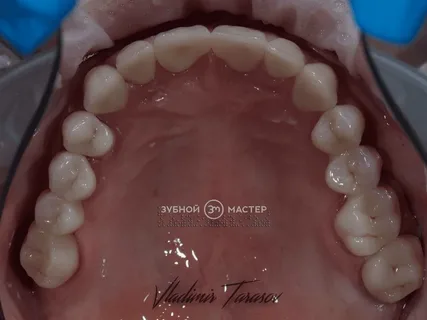UL1BC_healthy: (310, 110, 365, 151)
UL1M_decay: (336, 193, 399, 250)
UL2BC_healthy: (325, 148, 381, 193)
UL2M_decay: (362, 242, 425, 301)
ULCI_healthy: (212, 26, 264, 72)
ULC_healthy: (299, 65, 335, 112)
ULLI_healthy: (267, 40, 305, 77)
UR1BC_healthy: (62, 112, 115, 154)
UR1M_healthy: (38, 194, 85, 234)
UR2BC_healthy: (49, 154, 95, 198)
UR2M_healthy: (22, 231, 82, 285)
URCI_healthy: (152, 26, 212, 74)
URC_healthy: (85, 70, 130, 111)
URLI_healthy: (116, 44, 156, 81)
